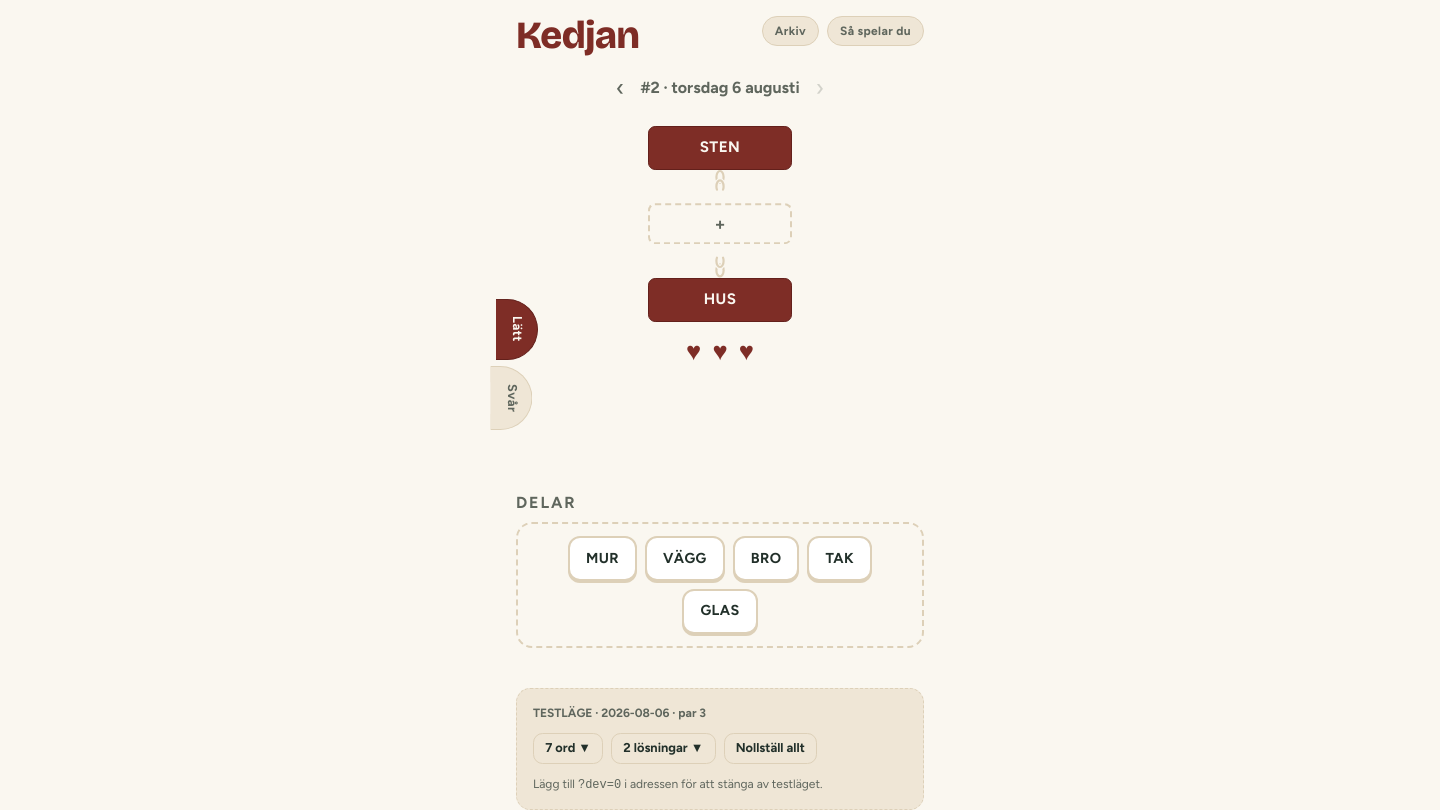
Scenario: the ending dialog › celebrates a win with the route map
This screenshot has width=1440, height=810.
Click the button with aria-label "bro.". click: (766, 558)
box: [733,536,799,581]
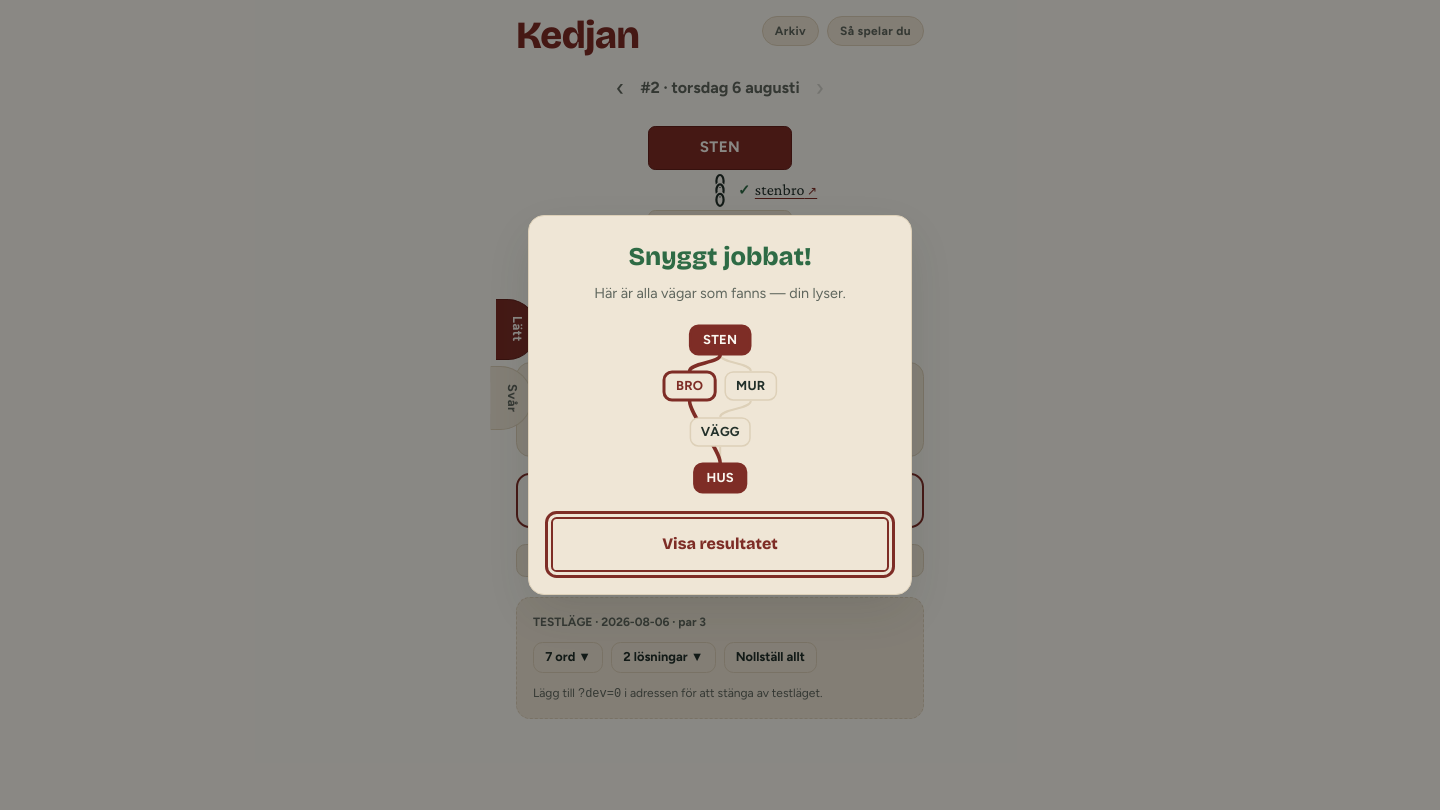
Expected: the heading reads "Snyggt jobbat!", [628,241,812,272]
Expected: the element named "Alla vägar till målet, som ett träd" is shown, [550,317,782,521]
Click the button "Visa resultatet". click: (720, 544)
box: [551,517,889,572]
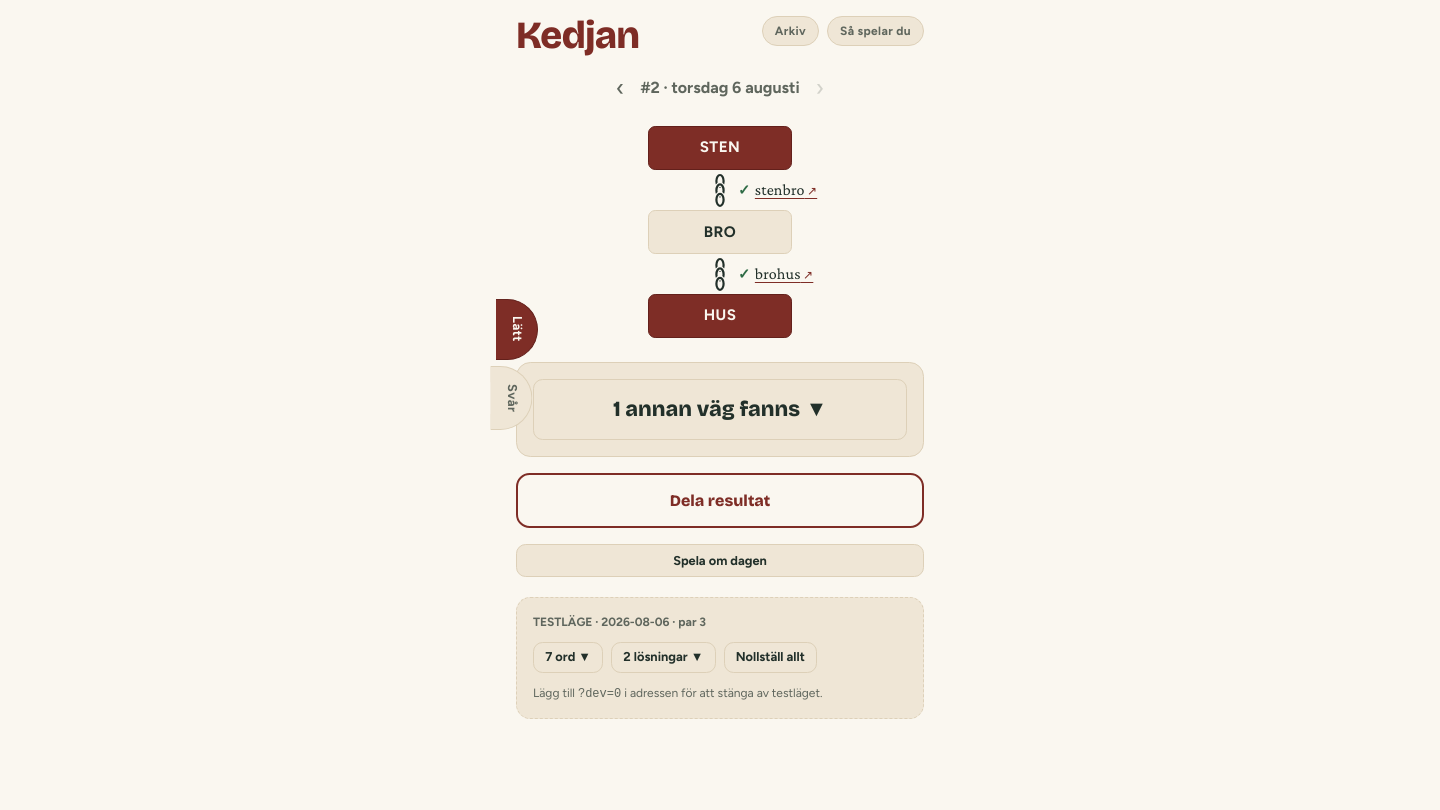
Expected: the dialog is gone
